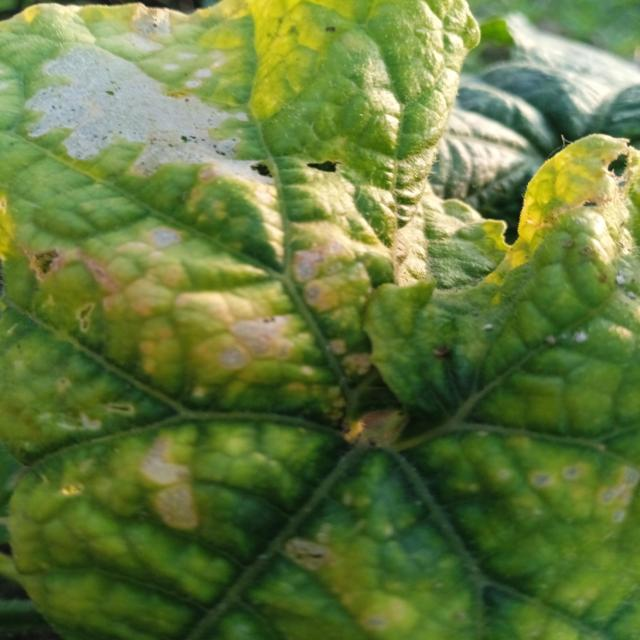cucumber_anthracnose: (24, 8, 376, 607), (398, 136, 638, 625)
